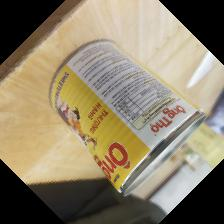Ong_tho: (47, 38, 206, 197)
